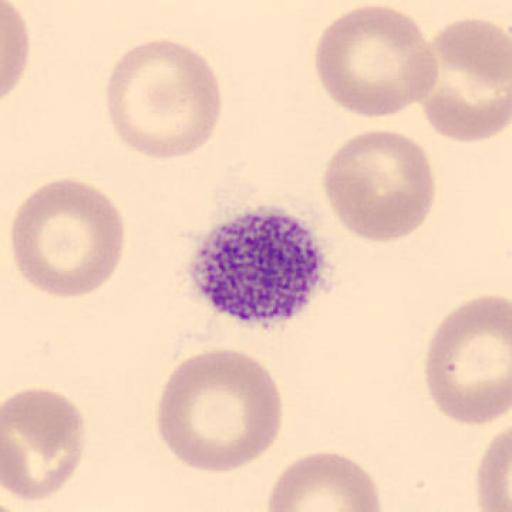Platelet: (183, 204, 340, 331)
RBC: (154, 347, 284, 474), (314, 2, 440, 119), (10, 176, 128, 300), (104, 37, 222, 160), (321, 128, 437, 244), (422, 294, 512, 428), (422, 16, 512, 143), (2, 387, 88, 503), (267, 450, 383, 512), (475, 426, 512, 512), (0, 0, 30, 100)
